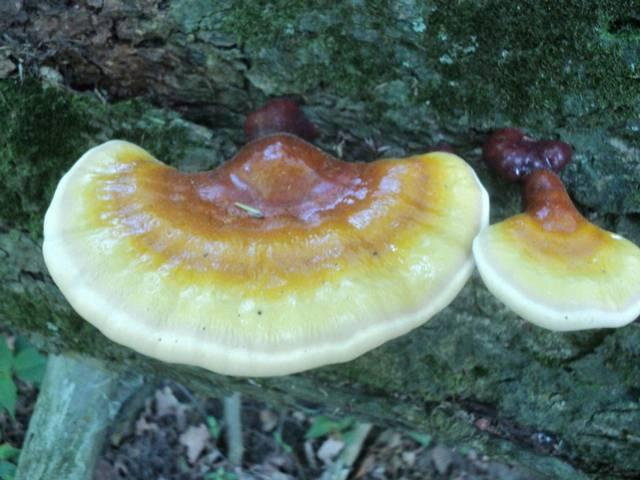Non-edible Mushroom: (40, 128, 490, 378), (470, 128, 640, 336)
